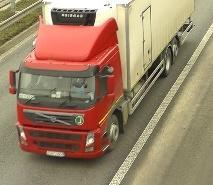truck: (8, 0, 196, 160)
